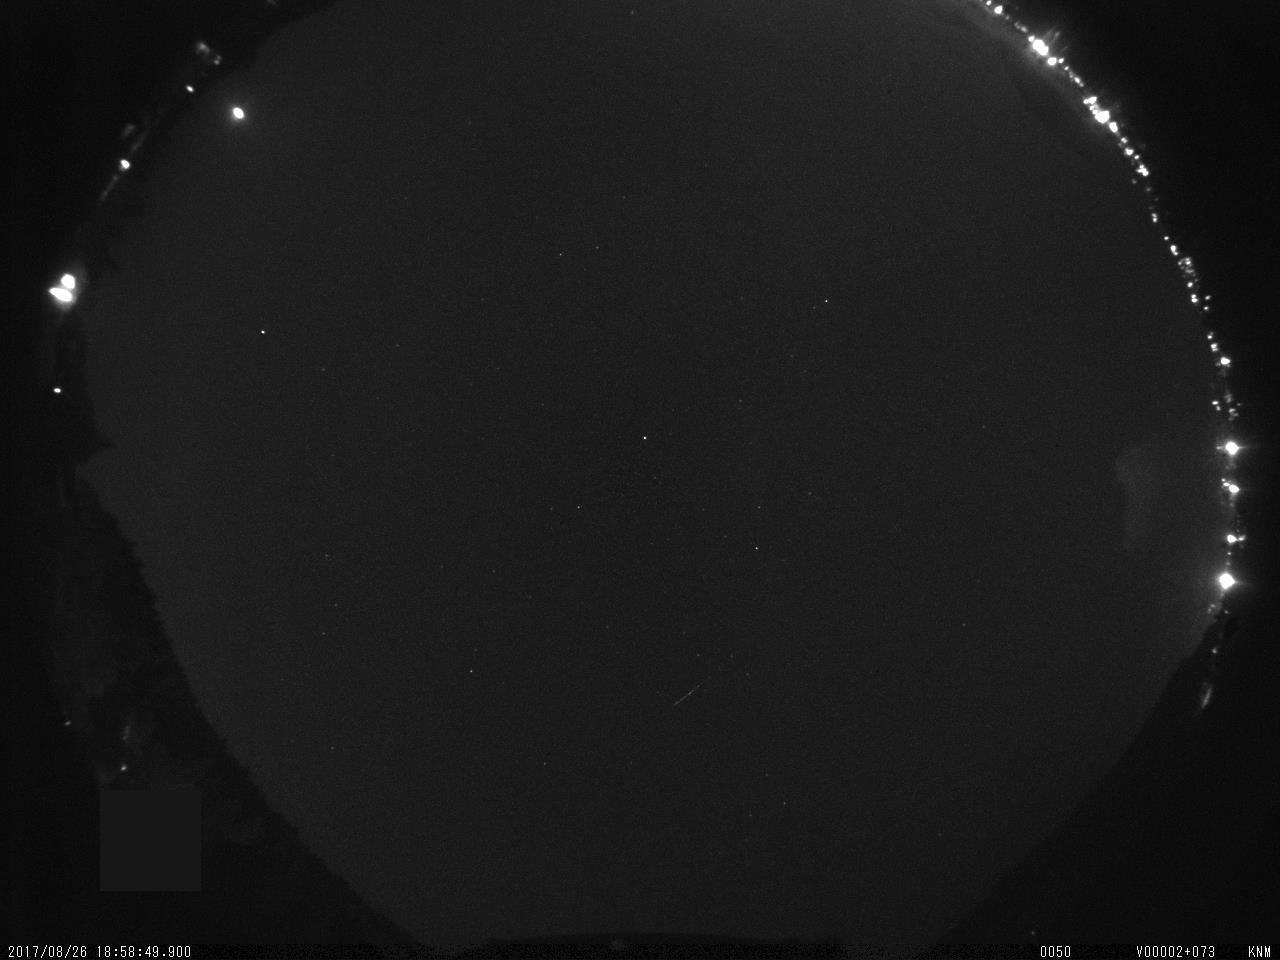Meteor: (664, 678, 709, 714)
